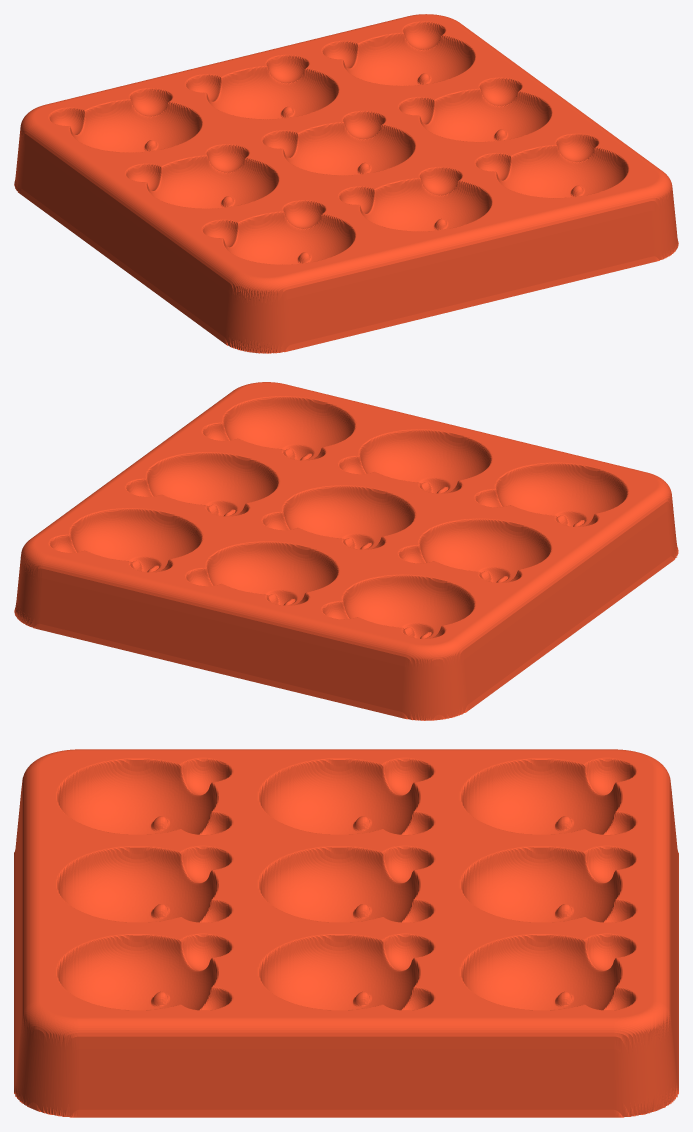
File: mold.glb
3 renders of one model, top to bottom at view 1: azimuth 30°, elevation 25°; view 2: azimuth 150°, elevation 25°; view 3: azimuth 270°, elevation 25°, orthographic. The views are drawn at different scales.
Parts seen in each view (by area): view 1: geometry_0; view 2: geometry_0; view 3: geometry_0.
Part boxes in pixels (x1,y1,x2,y2): geometry_0: [14, 14, 678, 353]; geometry_0: [14, 382, 678, 720]; geometry_0: [14, 749, 678, 1117].
Bounding box in the file's own units: 0.0946 × 0.0136 × 0.0922.
